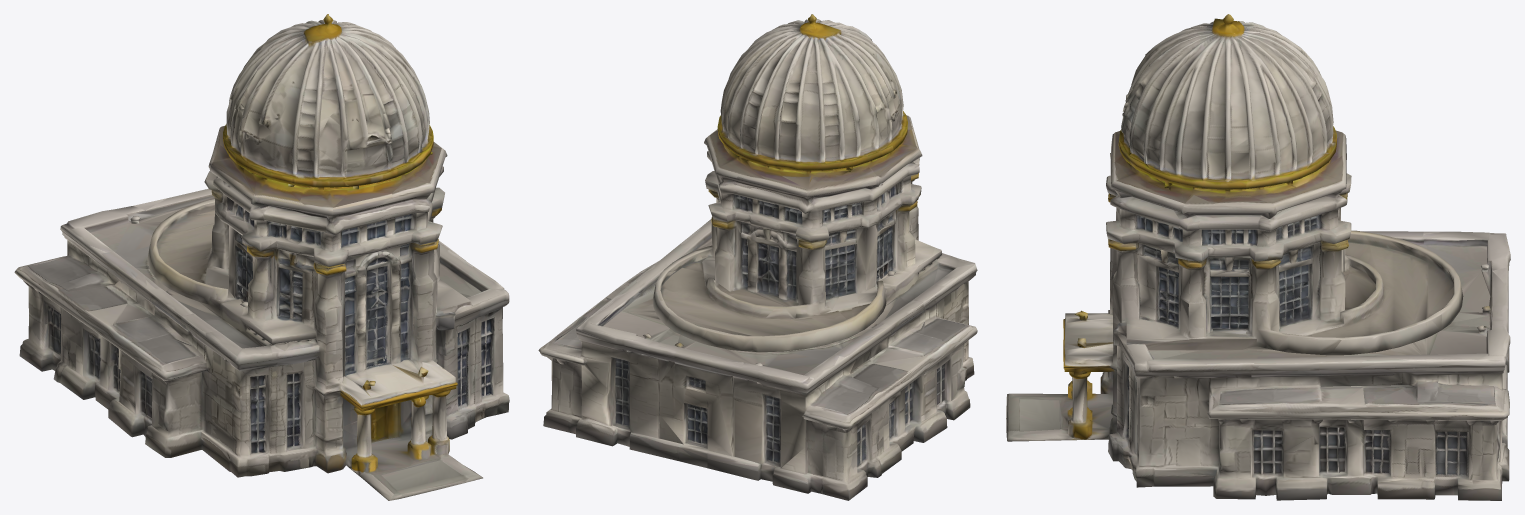
File: bld_obs_hall.fbx
The picture shows the model from 3 angles, left to right: view 1: azimuth 30°, elevation 25°; view 2: azimuth 150°, elevation 25°; view 3: azimuth 270°, elevation 25°; orthographic projection. The views are drawn at different scales.
Visible parts, largest first — view 1: bld_obs_hall_LOD0; view 2: bld_obs_hall_LOD0; view 3: bld_obs_hall_LOD0.
Part boxes in pixels (x1=…): bld_obs_hall_LOD0: x1=14, y1=14, x2=509, y2=500; bld_obs_hall_LOD0: x1=538, y1=14, x2=977, y2=500; bld_obs_hall_LOD0: x1=1006, y1=14, x2=1510, y2=500.
Size of what is drawn, in the model's own units: 0.7905 by 0.8703 by 0.9795.
